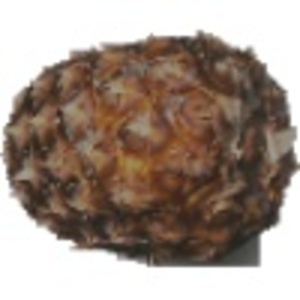abacaxi: (5, 30, 297, 255)
